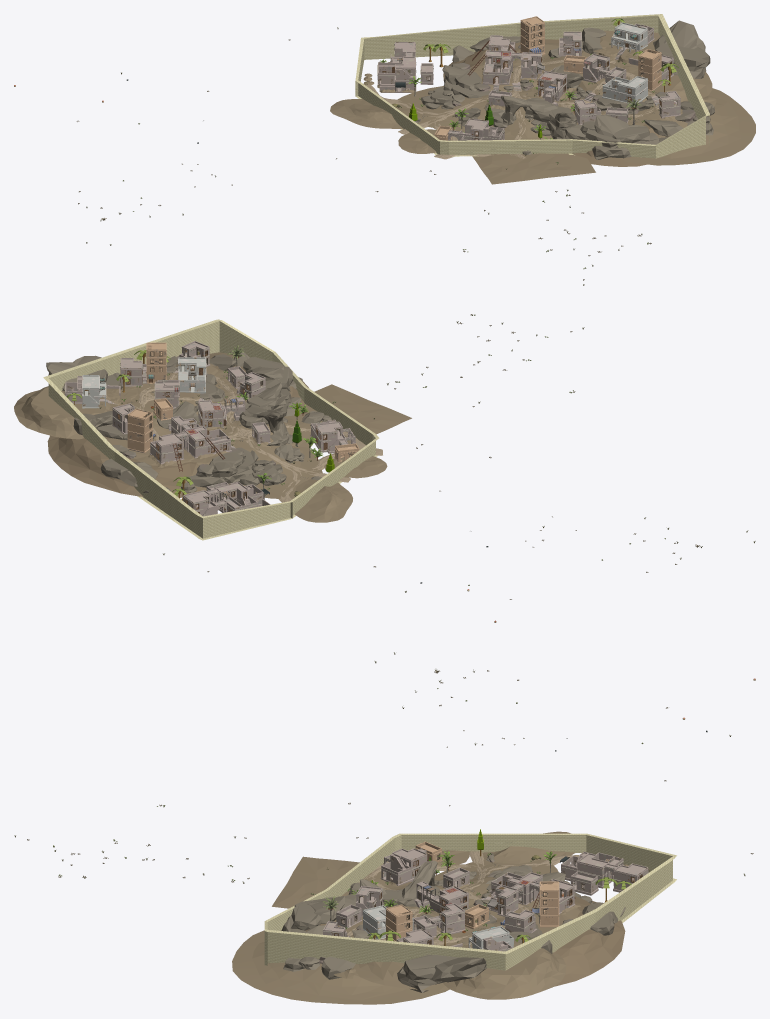
The model's file is map-deserttown.glb.
The picture shows the model from 3 angles, top to bottom: view 1: azimuth 30°, elevation 25°; view 2: azimuth 150°, elevation 25°; view 3: azimuth 270°, elevation 25°; orthographic projection. The views are drawn at different scales.
Parts seen in each view (by area): view 1: Border, SM_Env_Ground_Hill_02__6_, SM_Env_Ground_Square_01__3_, SM_Env_Ground_Hill_02__4_, SM_Env_SandDunes_02__16_, SM_Bld_Village_House_01__3_, SM_Env_Ground_Hill_Flat_01__4_, SM_Bld_Village_House_01__1_, SM_Bld_Village_House_04__1_, SM_Bld_Village_House_03__1_, SM_Bld_Village_House_04__2_, SM_Env_Rock_06__13_ (+15 smaller); view 2: Border, SM_Env_Ground_Hill_Flat_01__6_, SM_Env_Ground_Hill_Flat_01__7_, SM_Env_Ground_Square_01__3_, SM_Env_Ground_Hill_02__4_, SM_Env_SandDunes_02__16_, SM_Bld_Village_House_01__1_, SM_Bld_Village_House_04__1_, SM_Bld_Village_House_01__3_, SM_Bld_Village_House_01__2_, SM_Bld_Village_House_04__2_, SM_Bld_Village_House_06__4_ (+7 smaller); view 3: Border, SM_Env_Ground_Hill_02__6_, SM_Env_Ground_Hill_Flat_01__7_, SM_Env_Ground_Hill_Flat_01__6_, SM_Env_Ground_Square_01__3_, SM_Env_Ground_Hill_Flat_01__4_, SM_Env_Ground_Hill_02__4_, SM_Env_Rock_06__13_, SM_Env_SandDunes_02__16_, SM_Bld_Village_House_04__1_, SM_Env_Rock_Flat_02__20_, SM_Bld_Village_House_01__2_ (+11 smaller).
Boxes of the visible parts, x1,y1,x2,y2 form: Border: (355, 14, 709, 158); SM_Env_Ground_Hill_02__6_: (624, 88, 755, 165); SM_Env_Ground_Square_01__3_: (472, 153, 595, 184); SM_Env_Ground_Hill_02__4_: (392, 86, 517, 132); SM_Env_SandDunes_02__16_: (330, 99, 419, 129); SM_Bld_Village_House_01__3_: (602, 76, 648, 104); SM_Env_Ground_Hill_Flat_01__4_: (570, 71, 712, 105); SM_Bld_Village_House_01__1_: (482, 50, 512, 84); SM_Bld_Village_House_04__1_: (520, 16, 545, 55); SM_Bld_Village_House_03__1_: (610, 22, 647, 54); SM_Bld_Village_House_04__2_: (638, 49, 661, 90); SM_Env_Rock_06__13_: (653, 20, 705, 51); Border: (43, 319, 379, 540); SM_Env_Ground_Hill_Flat_01__6_: (47, 435, 206, 497); SM_Env_Ground_Hill_Flat_01__7_: (14, 386, 112, 439); SM_Env_Ground_Square_01__3_: (299, 384, 411, 444); SM_Env_Ground_Hill_02__4_: (234, 435, 322, 498); SM_Env_SandDunes_02__16_: (293, 479, 352, 522); SM_Bld_Village_House_01__1_: (183, 426, 231, 458); SM_Bld_Village_House_04__1_: (127, 408, 152, 453); SM_Bld_Village_House_01__3_: (177, 357, 206, 393); SM_Bld_Village_House_01__2_: (214, 481, 257, 512); SM_Bld_Village_House_04__2_: (146, 342, 166, 383); SM_Bld_Village_House_06__4_: (149, 433, 184, 464); Border: (264, 833, 676, 970); SM_Env_Ground_Hill_02__6_: (232, 930, 448, 1004); SM_Env_Ground_Hill_Flat_01__7_: (443, 941, 566, 999); SM_Env_Ground_Hill_Flat_01__6_: (554, 896, 625, 986); SM_Env_Ground_Square_01__3_: (272, 856, 389, 908); SM_Env_Ground_Hill_Flat_01__4_: (351, 925, 449, 990); SM_Env_Ground_Hill_02__4_: (434, 859, 558, 894); SM_Env_Rock_06__13_: (431, 957, 486, 982); SM_Env_SandDunes_02__16_: (482, 831, 575, 863); SM_Bld_Village_House_04__1_: (539, 881, 559, 927); SM_Env_Rock_Flat_02__20_: (403, 954, 458, 983); SM_Bld_Village_House_01__2_: (577, 852, 623, 888).
Size of what is drawn, in the model's own units: 248 by 24.26 by 216.
9 materials, 9 textured.
